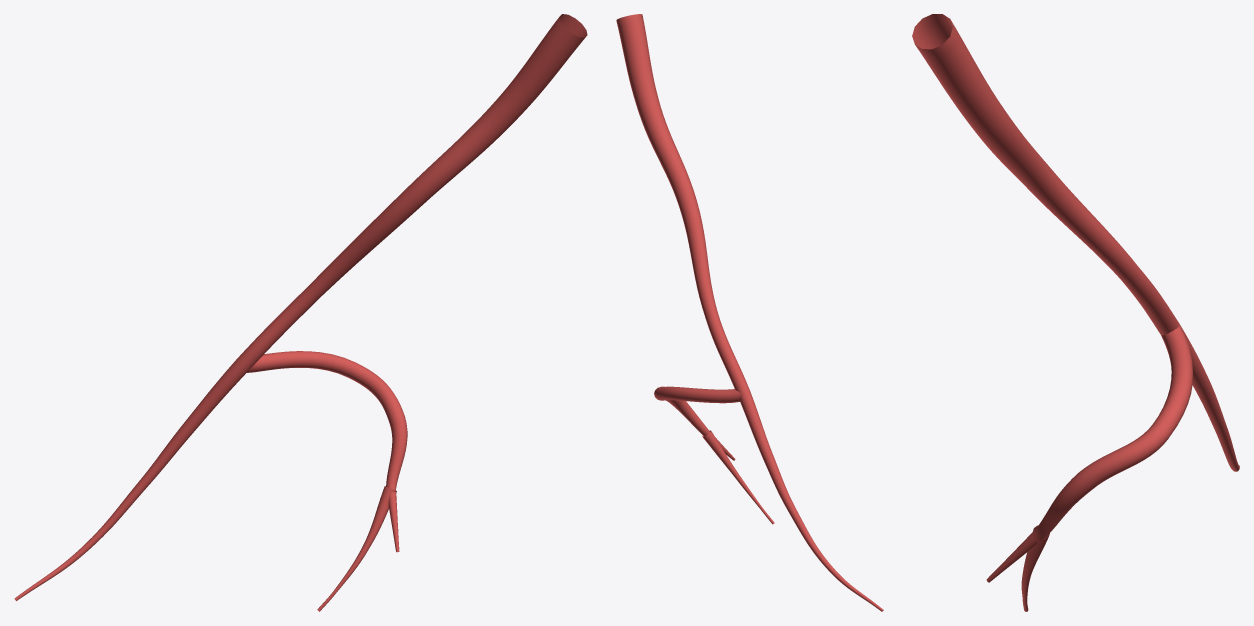
The picture shows the model from 3 angles, left to right: view 1: azimuth 30°, elevation 25°; view 2: azimuth 150°, elevation 25°; view 3: azimuth 270°, elevation 25°; orthographic projection. The views are drawn at different scales.
Visible parts, largest first — view 1: 左侧颏下动脉; view 2: 左侧颏下动脉; view 3: 左侧颏下动脉.
Part boxes in pixels (x1,y1,x2,y2): 左侧颏下动脉: [14, 14, 587, 611]; 左侧颏下动脉: [616, 14, 883, 611]; 左侧颏下动脉: [912, 14, 1239, 611].
Bounding box in the file's own units: 0.0451 × 0.0541 × 0.0221.
